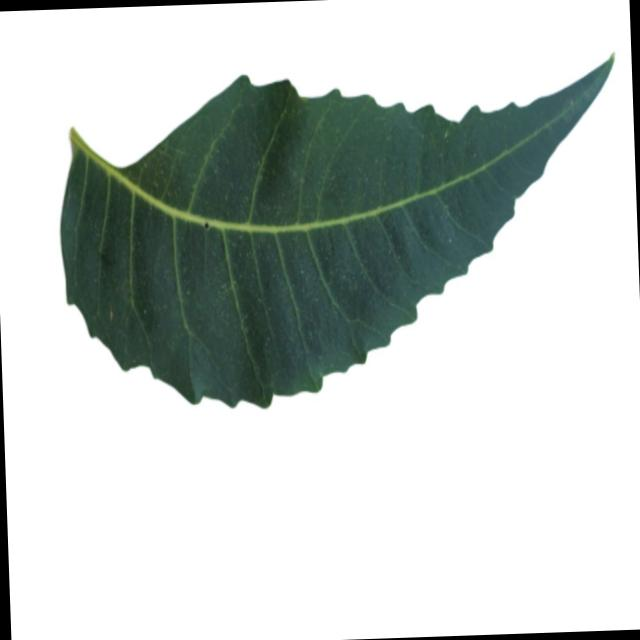Medicinal-Neem: (56, 48, 621, 414)
